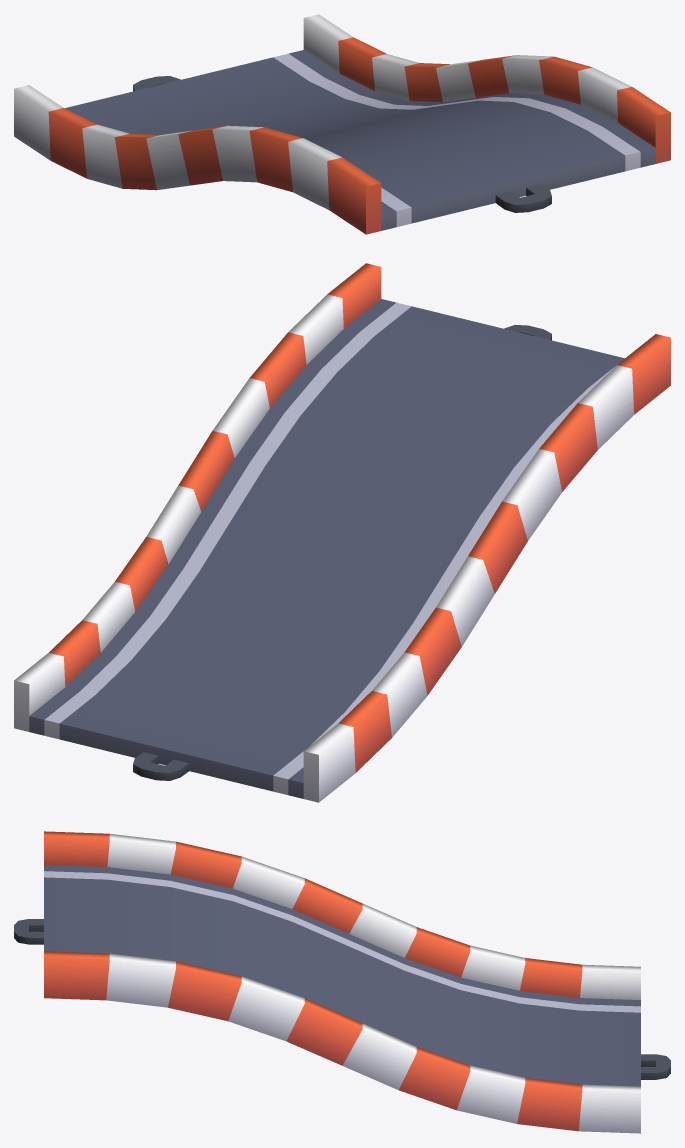
Rendered from track-road-wide-straight-hill-complete.glb.
3 renders of one model, top to bottom at view 1: azimuth 30°, elevation 25°; view 2: azimuth 150°, elevation 25°; view 3: azimuth 270°, elevation 25°, orthographic. The views are drawn at different scales.
Visible parts, largest first — view 1: track-road-wide-straight-hill-complete; view 2: track-road-wide-straight-hill-complete; view 3: track-road-wide-straight-hill-complete.
Part boxes in pixels (x1,y1,x2,y2): track-road-wide-straight-hill-complete: (14, 14, 670, 234); track-road-wide-straight-hill-complete: (14, 263, 670, 802); track-road-wide-straight-hill-complete: (14, 831, 670, 1133).
Bounding box in the file's own units: 6 × 3.9 × 13.2.
Materials: 1 (1 with a texture image).
